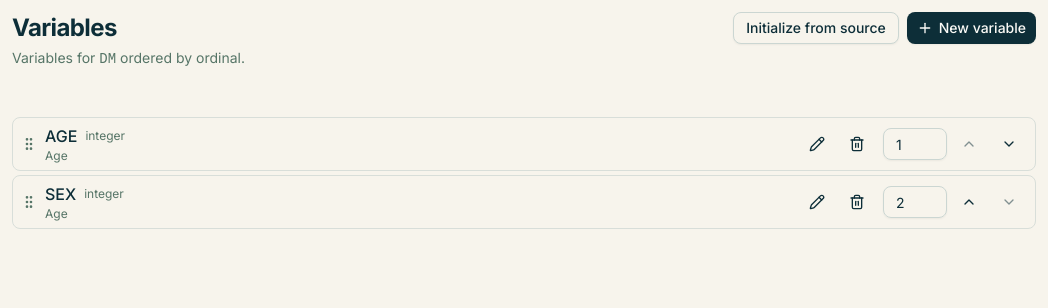
Test: Variable reorder PATCH parity (Req 4.4) › surfaces a reorder failure and reloads the list
Click the 1st button named "move down": (1009,144) [991,126,1027,162]
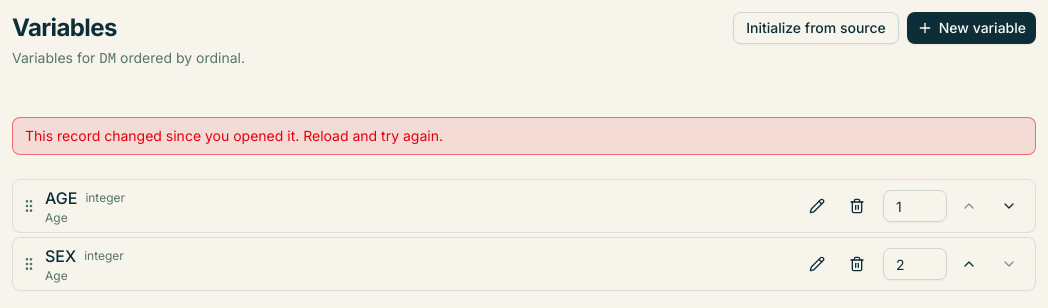
Check: the text "This record changed since you opened it. Reload and try again." is shown, box [12,117,1036,155]
